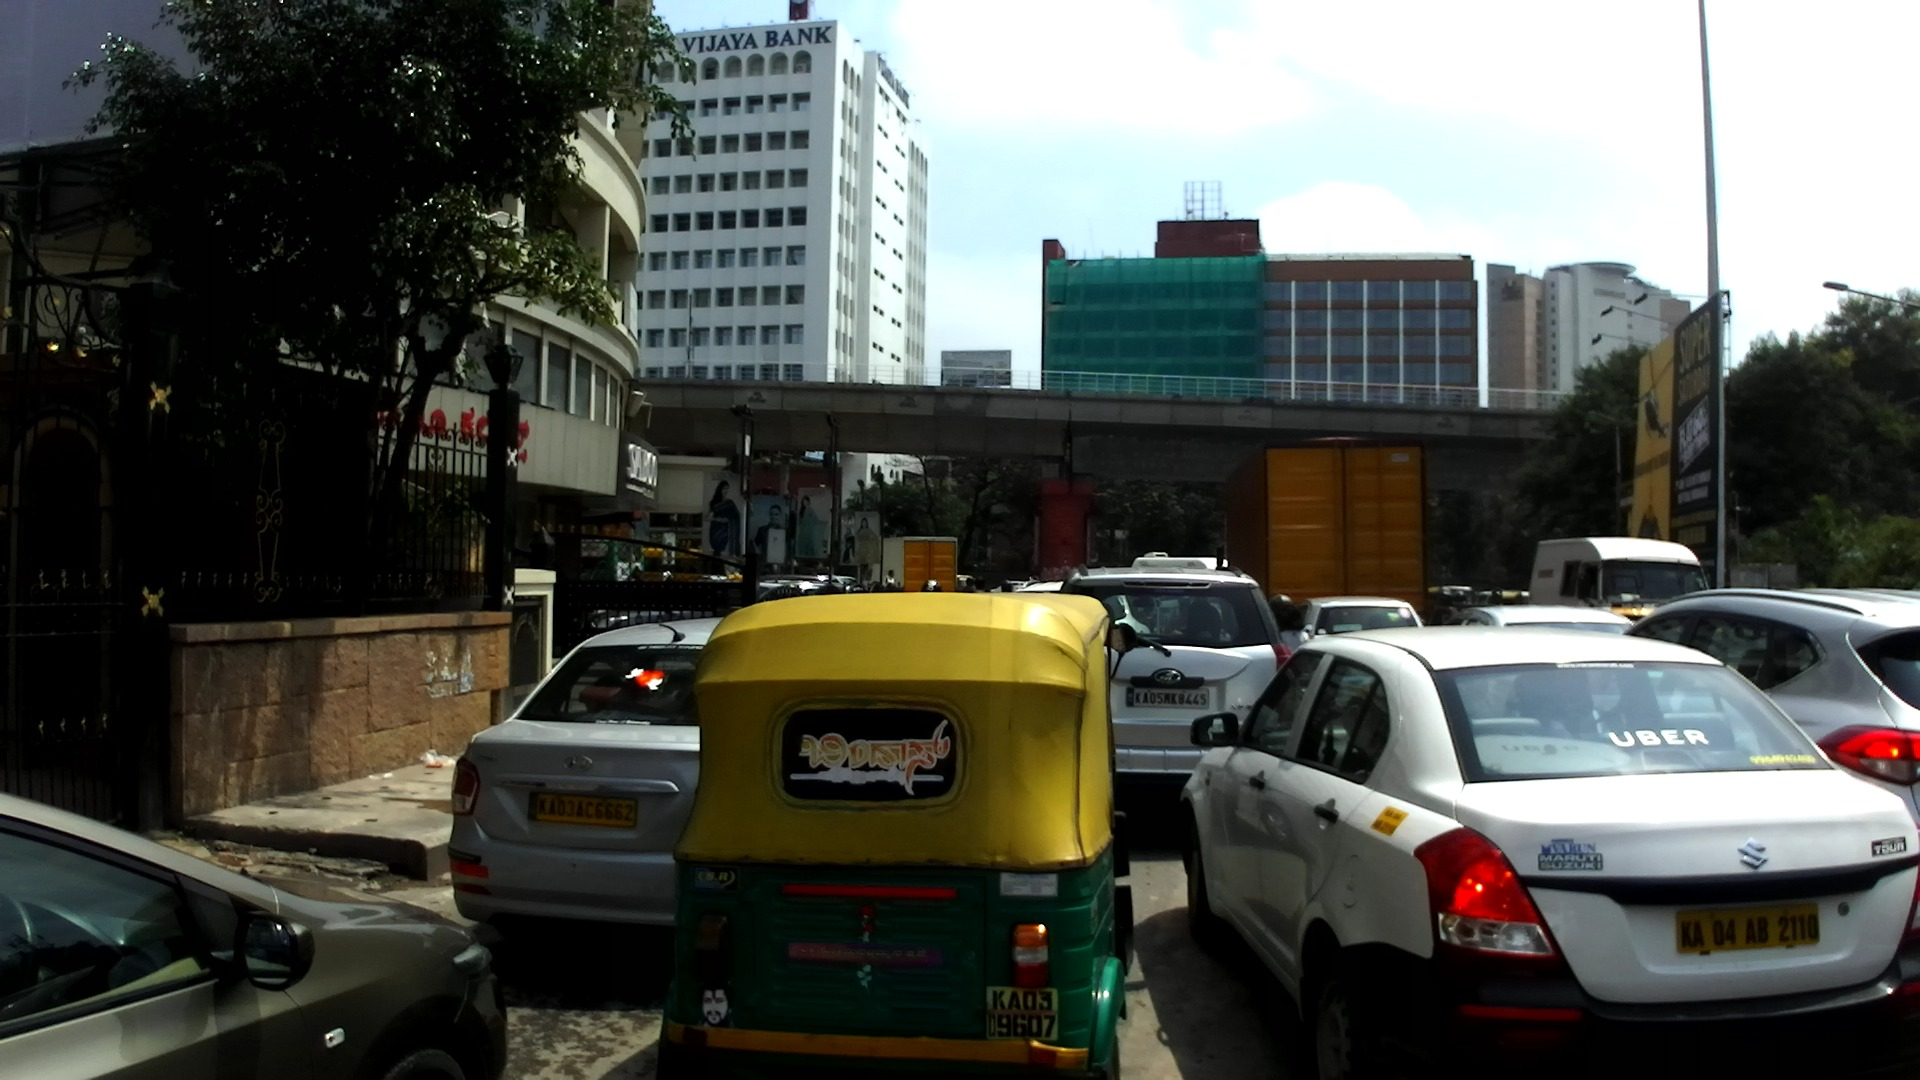autorickshaw: (653, 595, 1136, 1080)
bus: (1529, 538, 1709, 611)
car: (1179, 628, 1920, 1077), (1, 786, 506, 1080), (443, 618, 728, 952), (1613, 588, 1920, 825), (1058, 565, 1291, 777), (1297, 598, 1426, 637), (1447, 606, 1633, 630), (760, 575, 824, 602), (1020, 576, 1066, 595), (822, 573, 860, 594), (991, 579, 1031, 596)
person: (884, 569, 896, 586)
rider: (1267, 592, 1301, 634), (1432, 589, 1456, 625), (1486, 586, 1505, 607), (1451, 593, 1470, 611), (972, 577, 988, 594), (1515, 587, 1531, 603), (996, 579, 1013, 594), (964, 578, 976, 594), (923, 581, 943, 591)
truck: (1227, 433, 1428, 630), (861, 534, 957, 593)
vehicle fallback: (1127, 550, 1228, 574), (1424, 584, 1473, 616), (1478, 587, 1529, 607), (956, 574, 975, 592)
